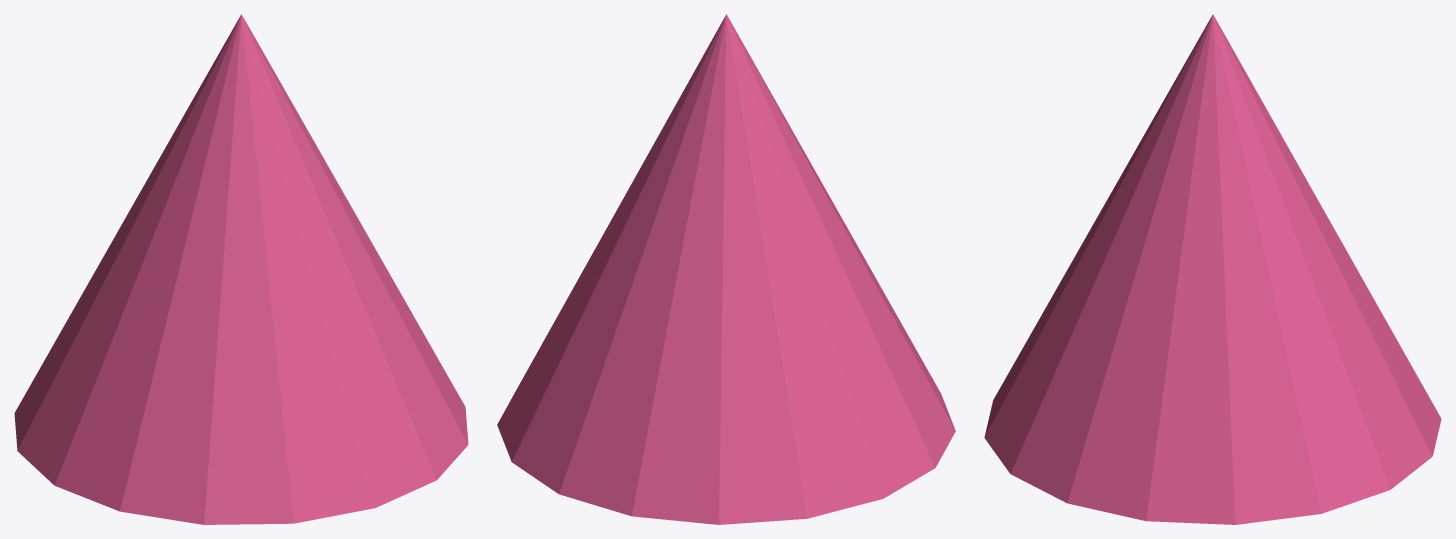
File: boid.glb
3 renders of one model, left to right at view 1: azimuth 30°, elevation 25°; view 2: azimuth 150°, elevation 25°; view 3: azimuth 270°, elevation 25°, orthographic.
Visible parts, largest first — view 1: Cone; view 2: Cone; view 3: Cone.
Boxes of the visible parts, x1=… form: Cone: x1=14, y1=14, x2=468, y2=524; Cone: x1=497, y1=14, x2=955, y2=524; Cone: x1=984, y1=14, x2=1441, y2=524.
Size of the model in its own units: 2 by 2 by 2.
